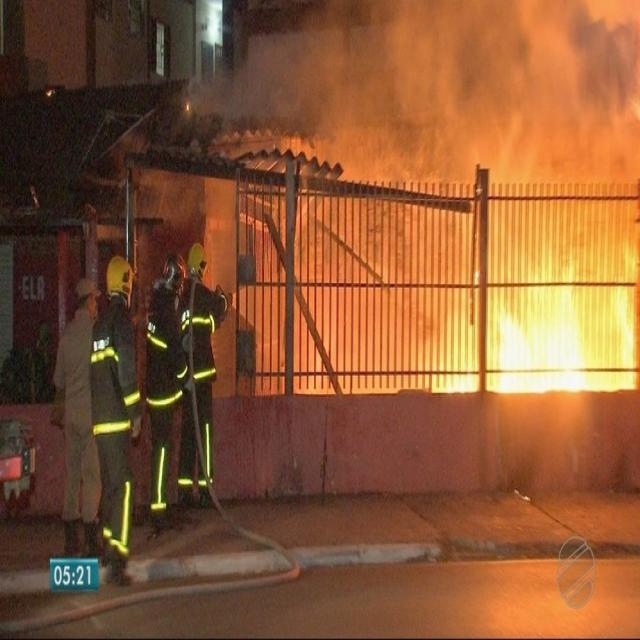Fire: (216, 200, 640, 404)
Smoke: (178, 1, 640, 188)
